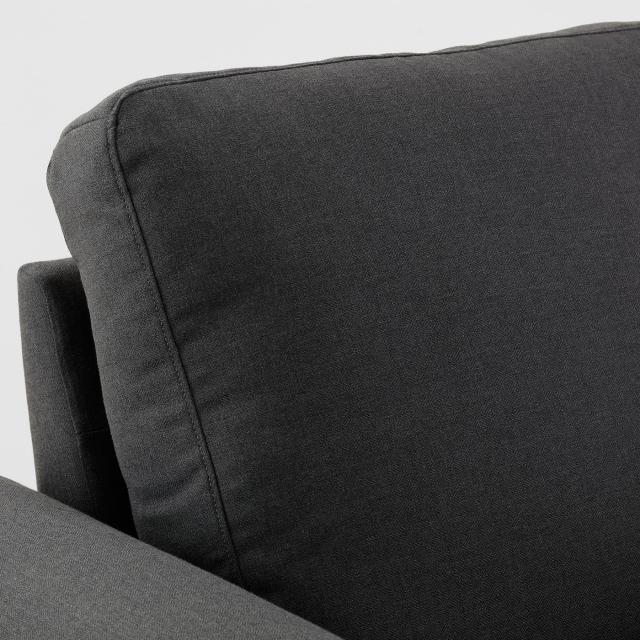sofa: (1, 19, 639, 638)
